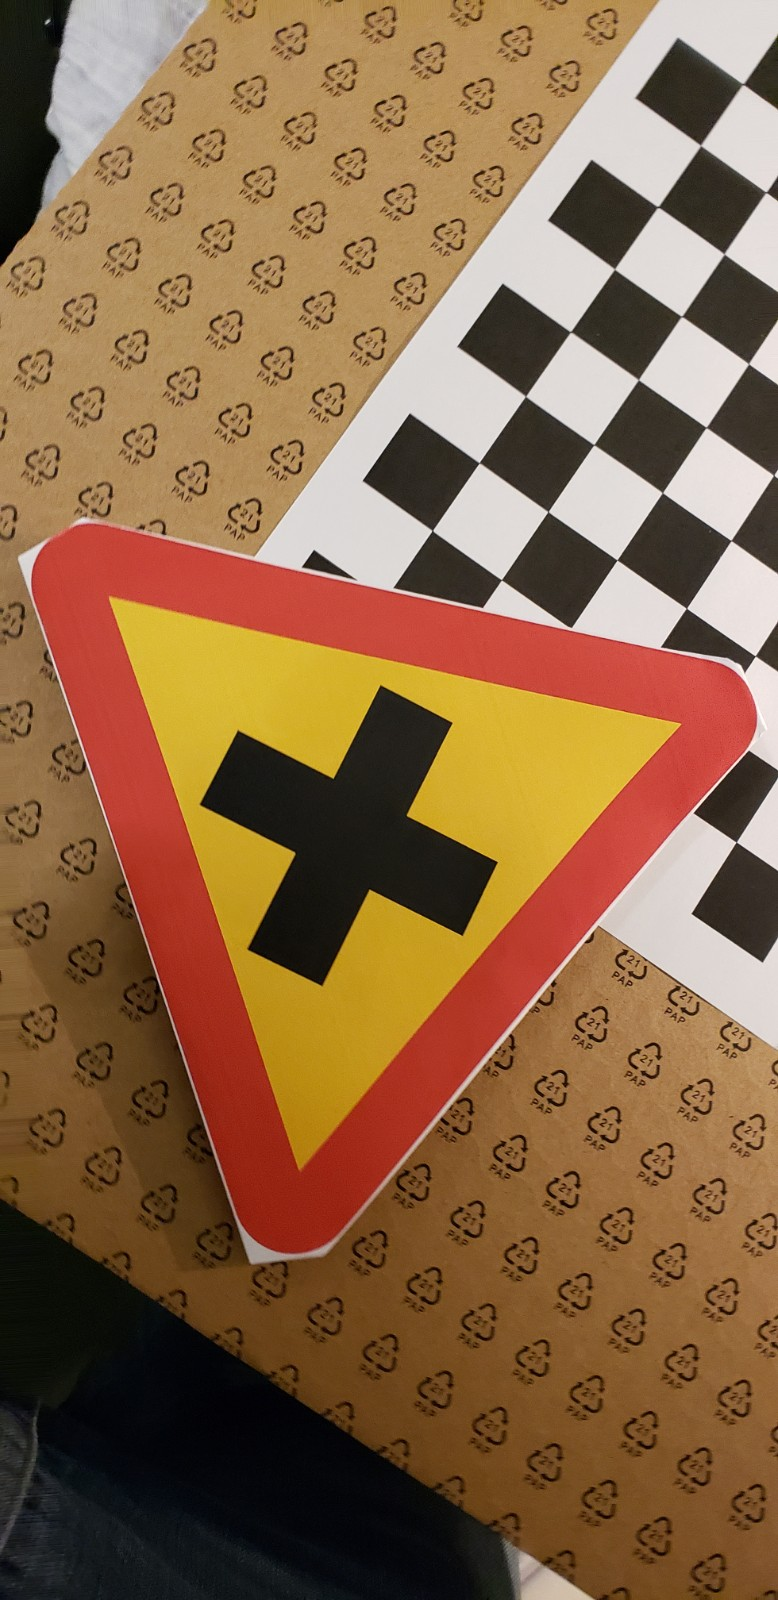junction: (16, 469, 748, 1367)
